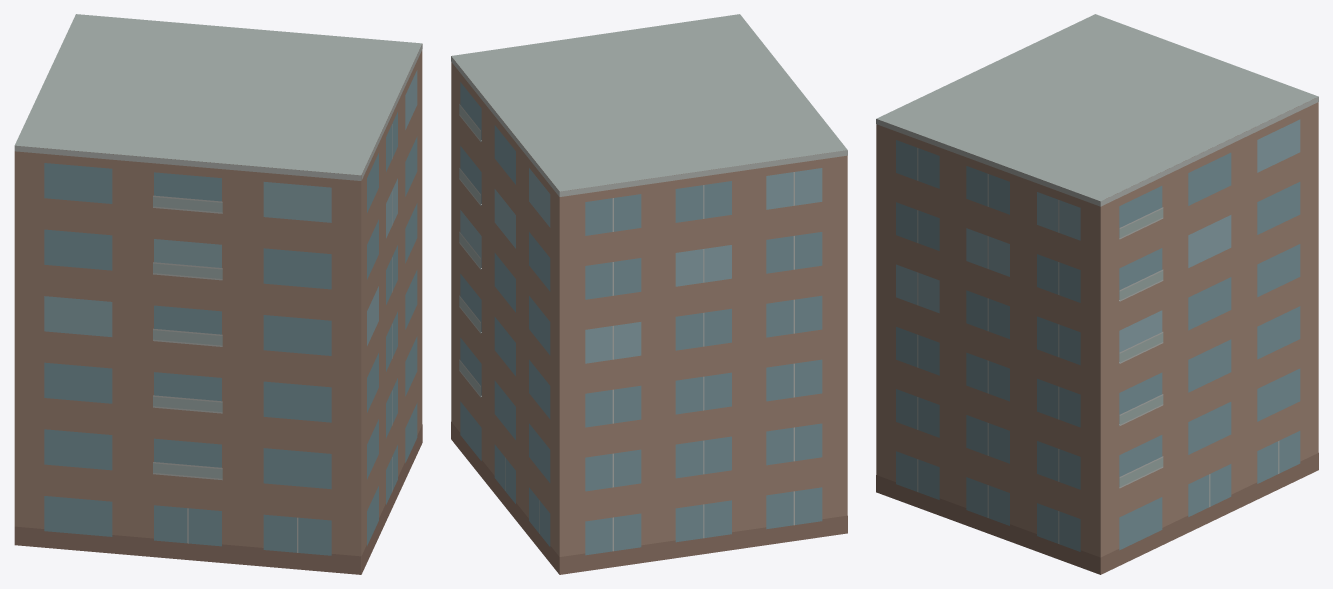
File: survey-upis-32893279.glb
3 renders of one model, left to right at view 1: azimuth 30°, elevation 25°; view 2: azimuth 150°, elevation 25°; view 3: azimuth 270°, elevation 25°, orthographic. The views are drawn at different scales.
Parts seen in each view (by area): view 1: survey-upis-32893279.tmp; view 2: survey-upis-32893279.tmp; view 3: survey-upis-32893279.tmp.
Boxes of the visible parts, x1=… form: survey-upis-32893279.tmp: x1=14, y1=14, x2=422, y2=574; survey-upis-32893279.tmp: x1=451, y1=14, x2=847, y2=574; survey-upis-32893279.tmp: x1=876, y1=14, x2=1318, y2=574.
Bounding box in the file's own units: 18.3 × 17 × 18.26.
